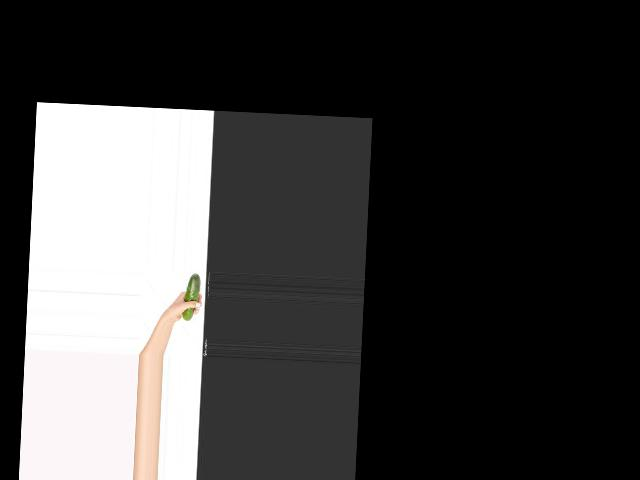cucumber: (182, 272, 201, 320)
